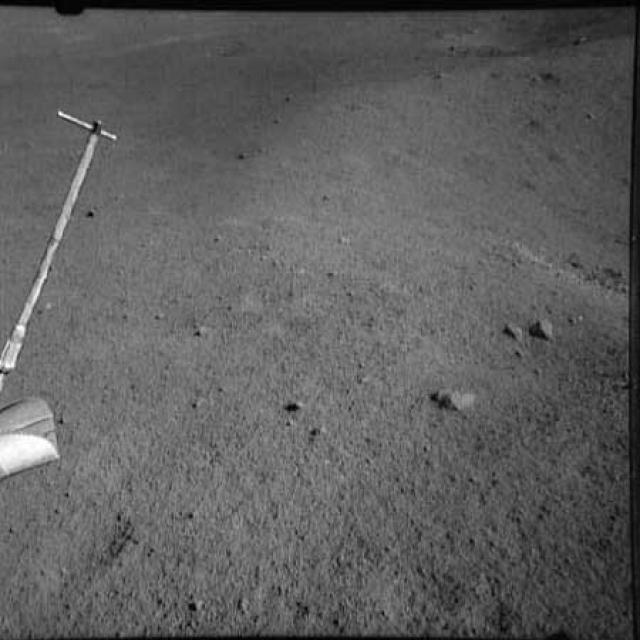artifact: (2, 92, 129, 491)
crater: (466, 18, 638, 312)
rock: (421, 370, 478, 419), (530, 314, 558, 345), (498, 318, 523, 347)
